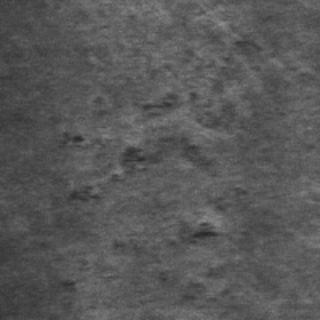rolled pit: (108, 44, 232, 248)
